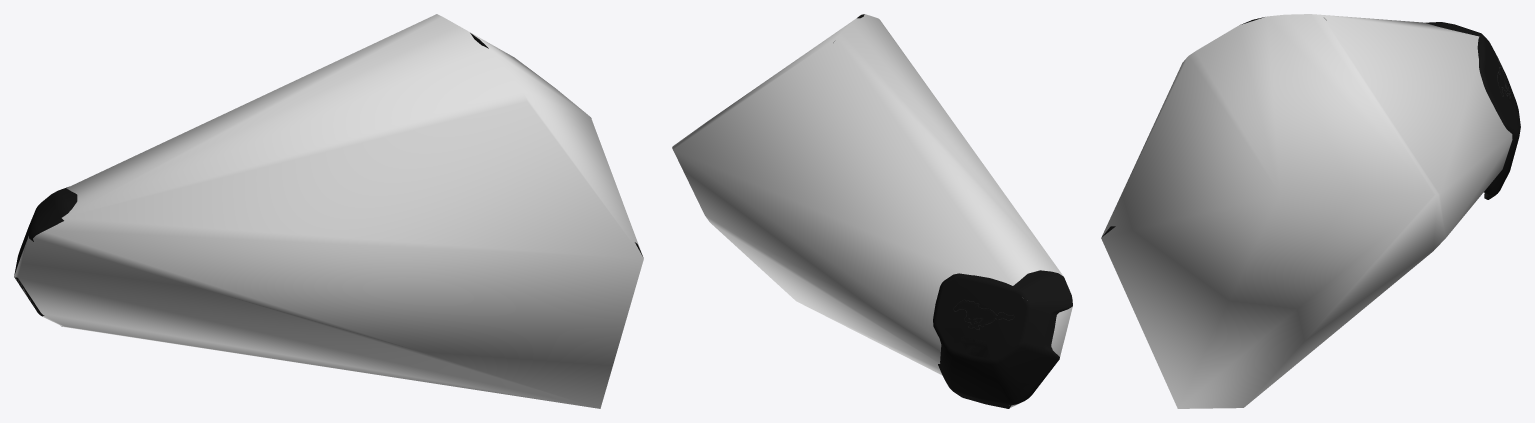
3 views of the same model, side by side, from view 1: azimuth 30°, elevation 25°; view 2: azimuth 150°, elevation 25°; view 3: azimuth 270°, elevation 25° (orthographic). The views are drawn at different scales.
Visible parts, largest first — view 1: grille_stampede_head_r_01_col, grille_stampede_head_r_01; view 2: grille_stampede_head_r_01_col, grille_stampede_head_r_01; view 3: grille_stampede_head_r_01_col, grille_stampede_head_r_01.
Boxes of the visible parts, x1=… form: grille_stampede_head_r_01_col: x1=14, y1=14, x2=643, y2=408; grille_stampede_head_r_01: x1=14, y1=33, x2=643, y2=326; grille_stampede_head_r_01_col: x1=672, y1=14, x2=1072, y2=407; grille_stampede_head_r_01: x1=833, y1=14, x2=1072, y2=408; grille_stampede_head_r_01_col: x1=1101, y1=14, x2=1512, y2=408; grille_stampede_head_r_01: x1=1102, y1=17, x2=1520, y2=236.
Bounding box in the file's own units: 0.4672 × 0.3395 × 0.3658.
Materials: 3 (3 with a texture image).
